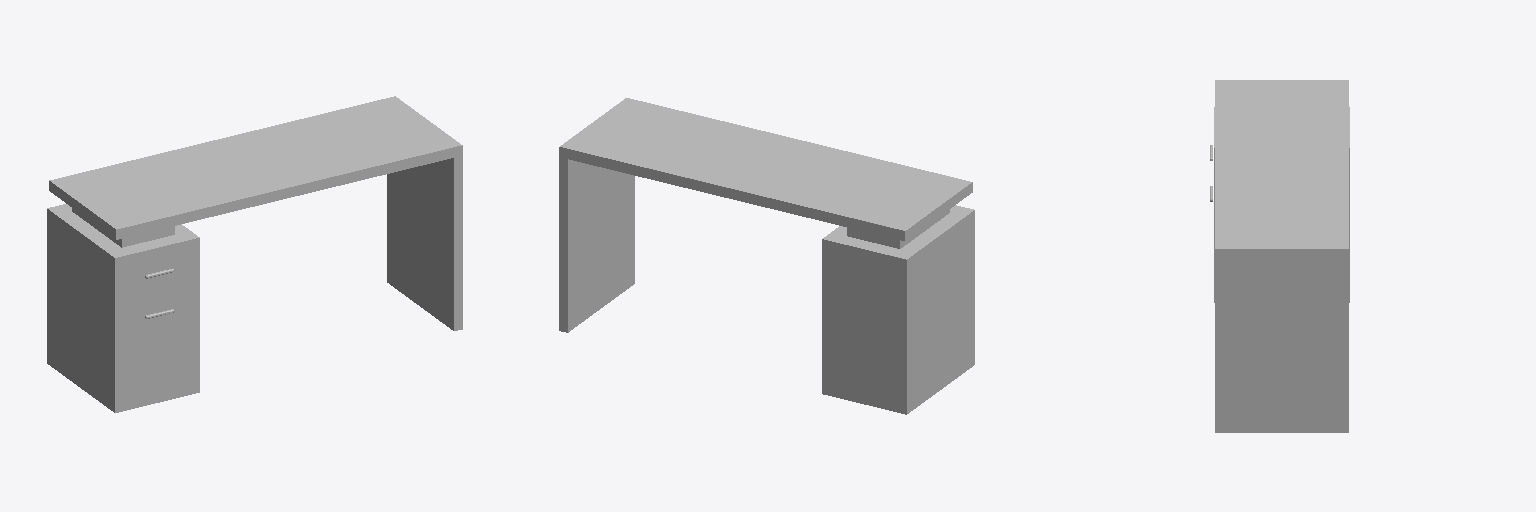
The model's file is MilesDeskWithFile.obj.
3 views of the same model, side by side, from view 1: azimuth 30°, elevation 25°; view 2: azimuth 150°, elevation 25°; view 3: azimuth 270°, elevation 25° (orthographic).
Parts seen in each view (by area): view 1: MilesDeskWithFile; view 2: MilesDeskWithFile; view 3: MilesDeskWithFile.
Boxes of the visible parts, x1,y1,x2,y2 form: MilesDeskWithFile: [47, 96, 462, 412]; MilesDeskWithFile: [559, 98, 974, 414]; MilesDeskWithFile: [1214, 80, 1349, 432].
Size of the model in its own units: 75.98 by 38.45 by 26.54.